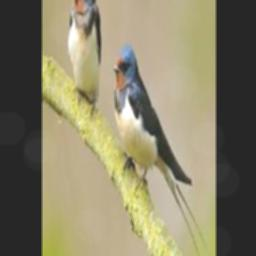Swallow: (113, 46, 206, 255), (68, 0, 102, 107)
